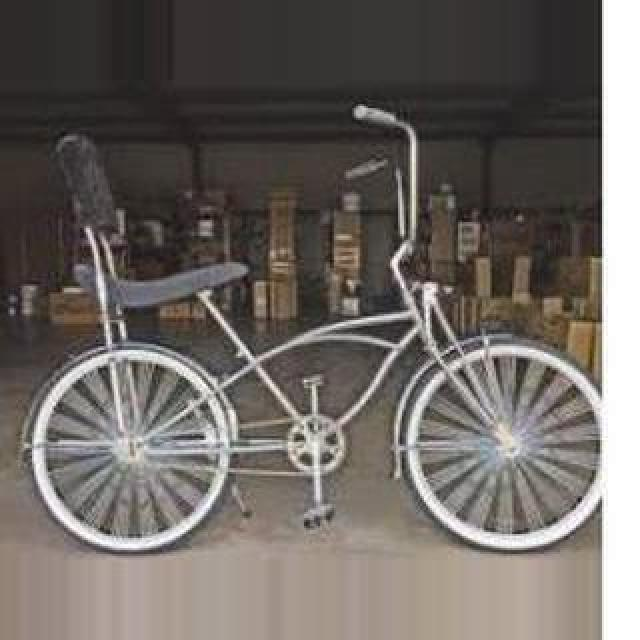Person: (22, 110, 604, 554)
